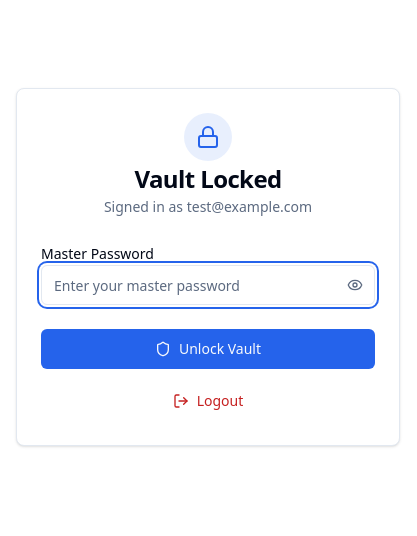
Phase 8.9: UnlockScreen rate limiting feedback › shows remaining attempts warning after failed unlock (before lockout threshold)
// Submit a wrong password
In the password field with placeholder "Enter your master password": (208, 285) x1=41 y1=265 x2=375 y2=305, type "wrongpass"
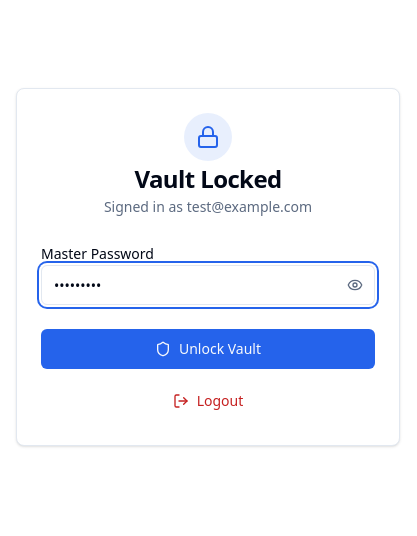
Click the button "Unlock Vault": (208, 349) x1=41 y1=329 x2=375 y2=369
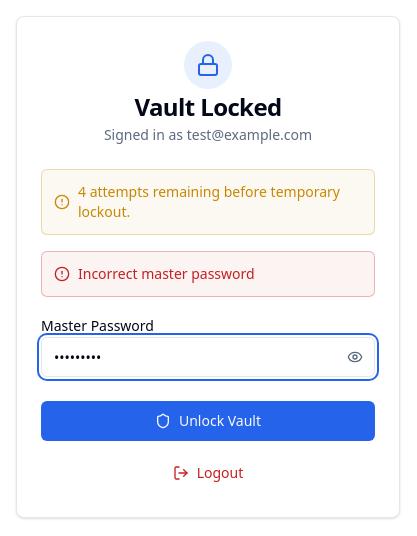
expect the text "4 attempts remaining before temporary lockout." is shown: met, box x1=78 y1=182 x2=362 y2=222
